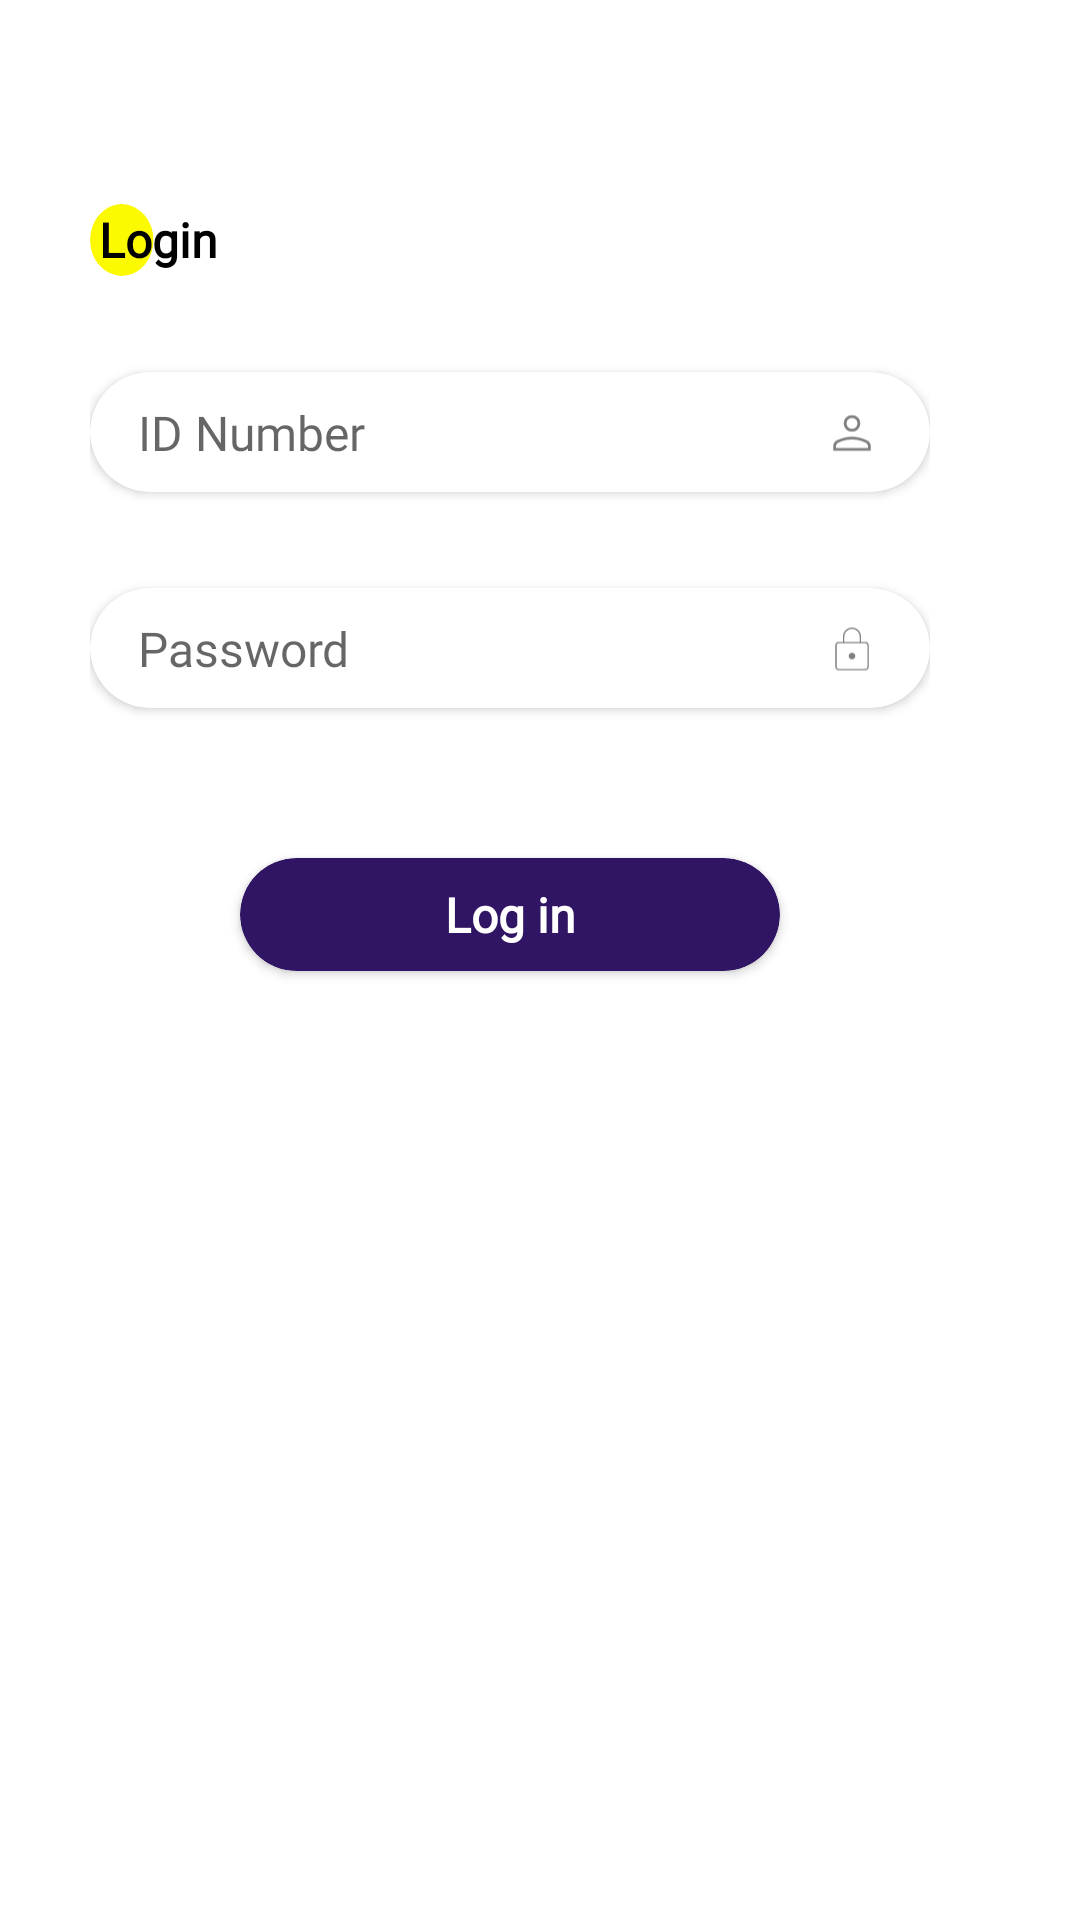

Icons on this 1080*1920 Android screen, each with the point to tap as (x=x, y=y):
login id: (x=852, y=433)
password: (x=852, y=649)
